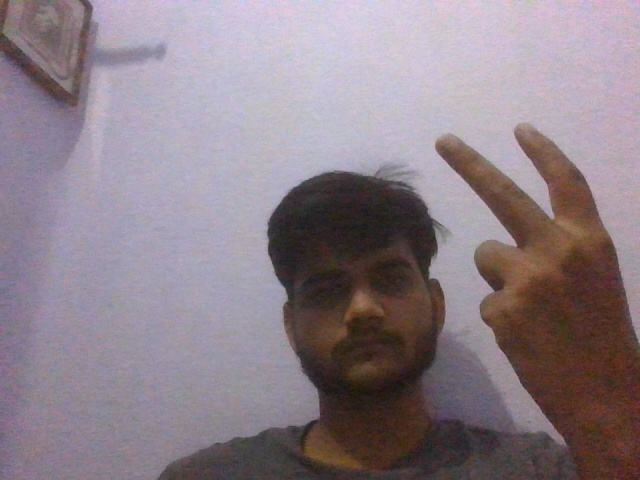yes: (414, 104, 631, 480)
